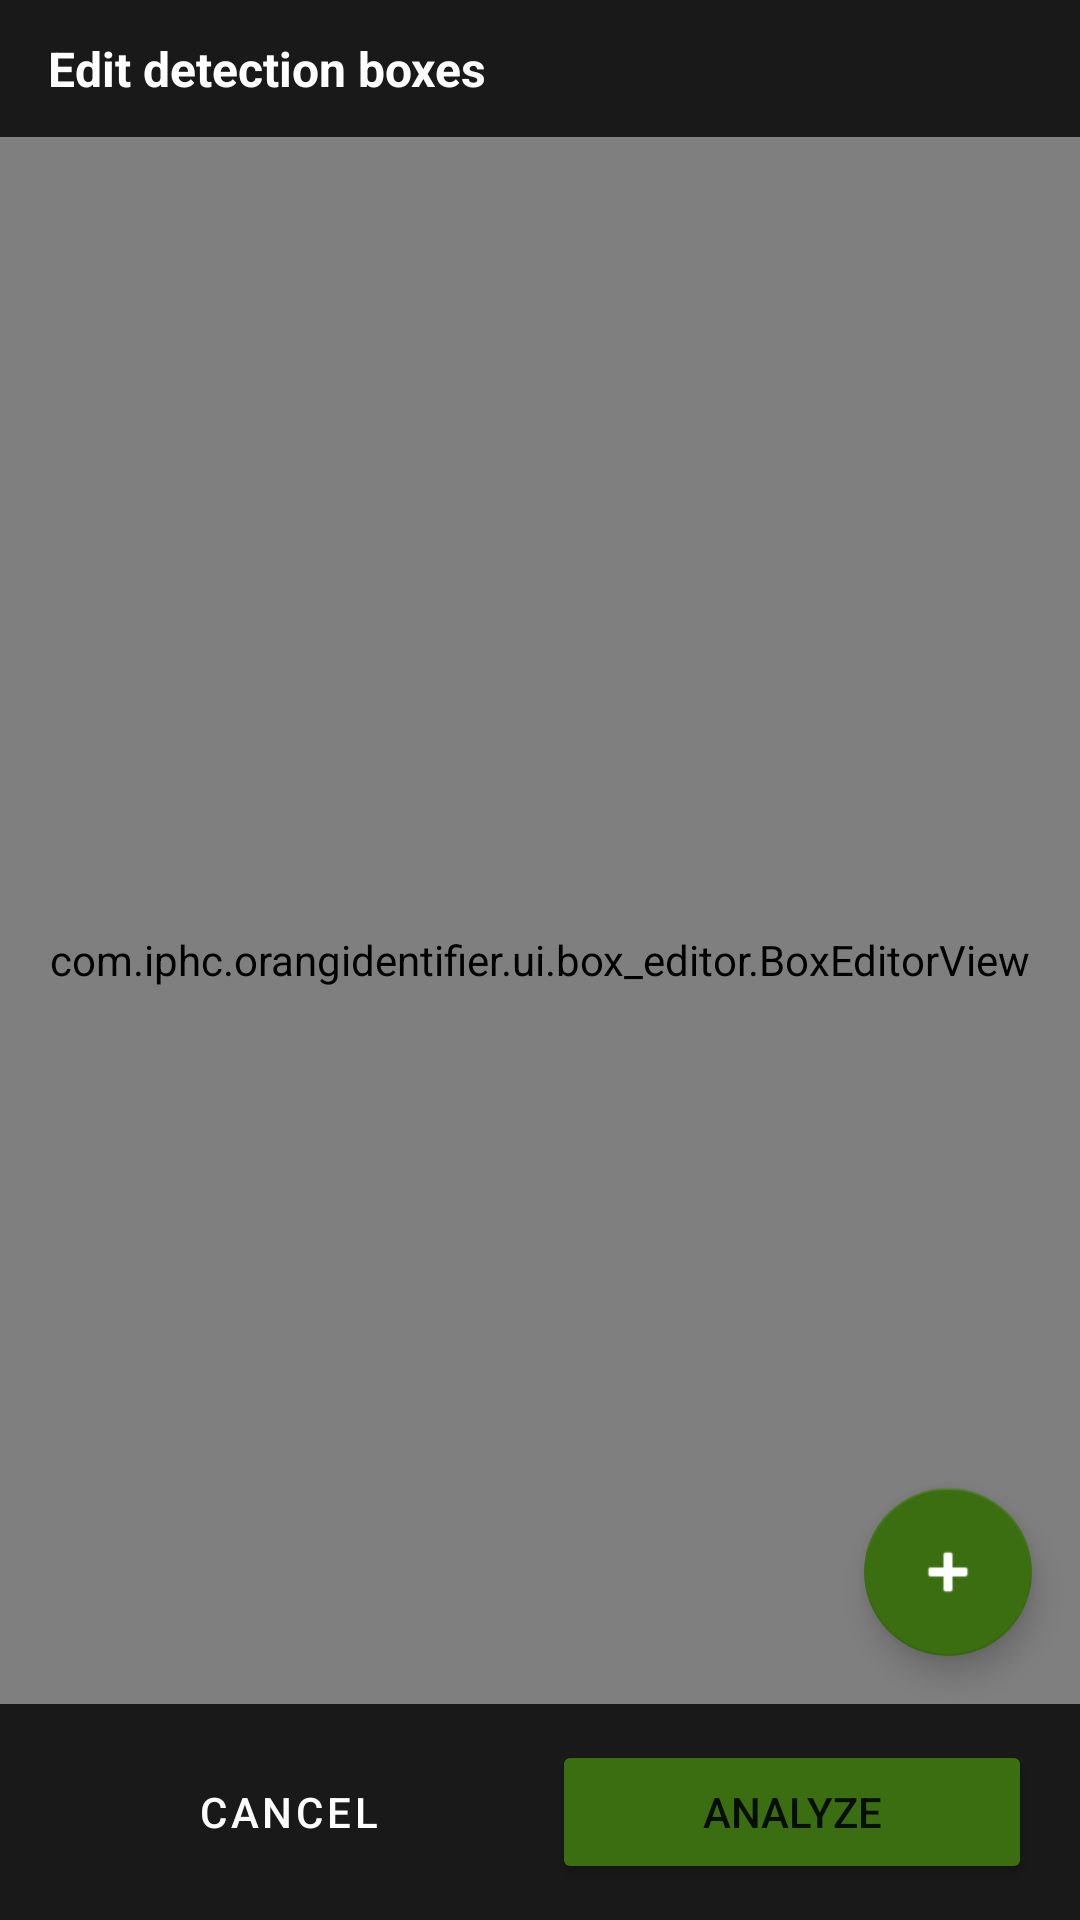

Icon click points for this 1080x1920 phone screenshot, format point (x, y):
Add box: point (948, 1572)
